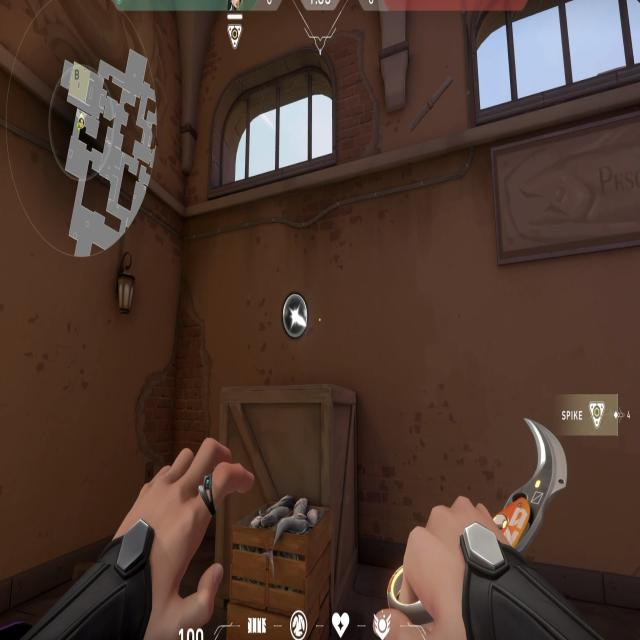B_Main_Wallbang: (176, 280, 314, 544)
Throwables: (469, 0, 640, 137), (202, 48, 339, 196)
